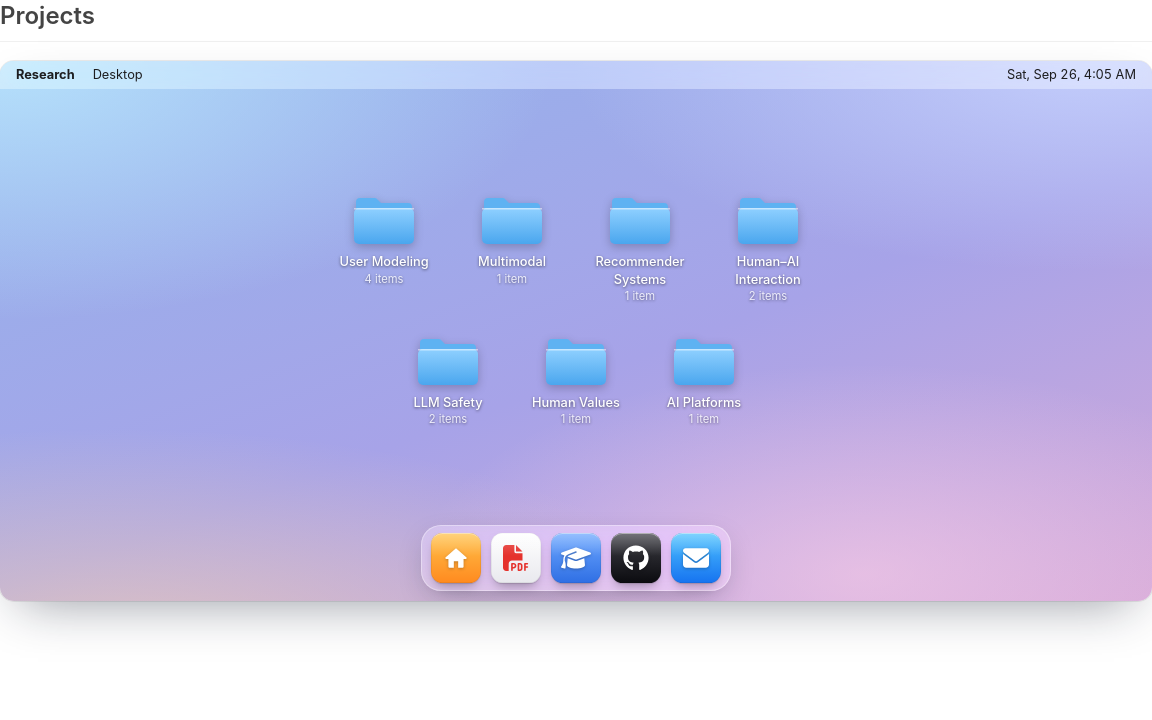
Test: ProjectsDesktop › hides a placeholder role
The width and height of the screenshot is (1152, 720).
Click the button with aria-label "AI Platforms folder" at (704, 379), box [648,327,760,432]
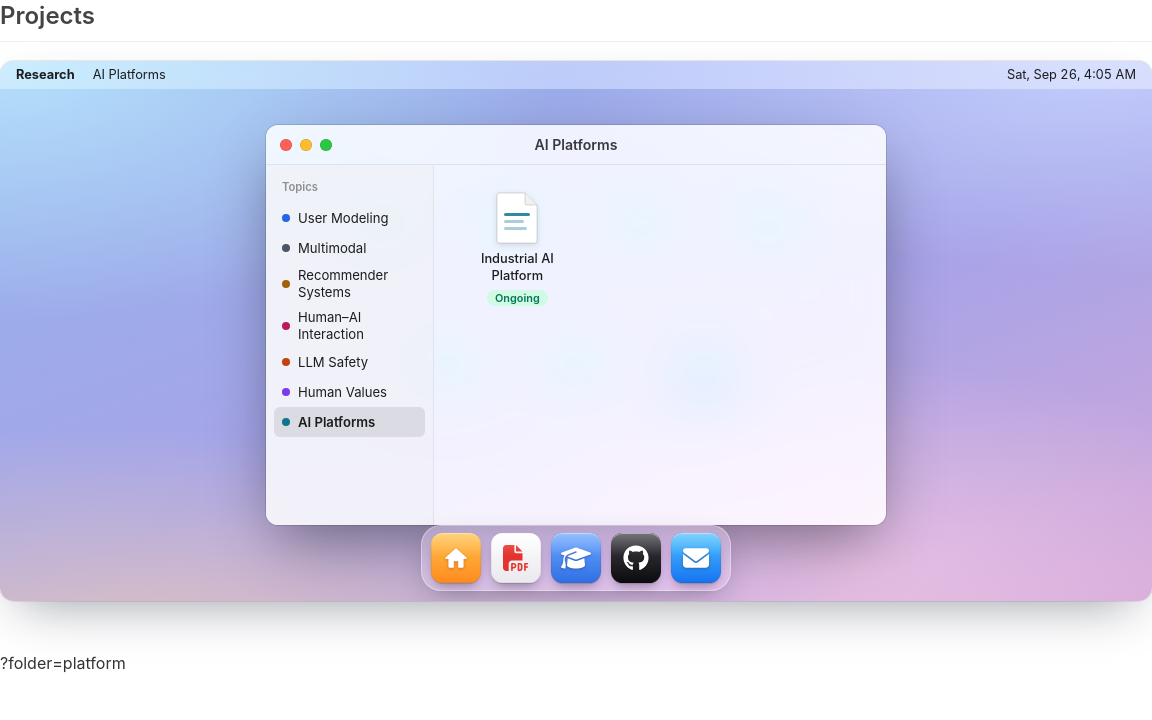
Click the button "Industrial AI Platform Ongoing" at (517, 249), box [450,181,585,316]
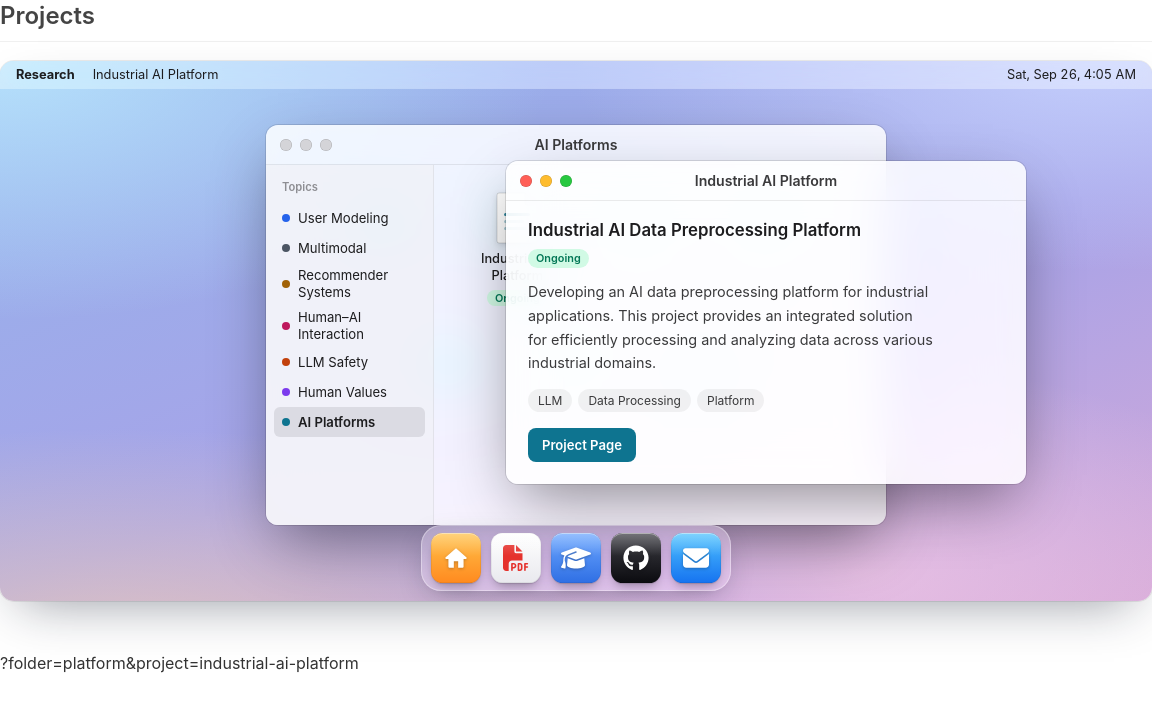
Check: the text "Ongoing" is shown, box [528,249,589,268]
